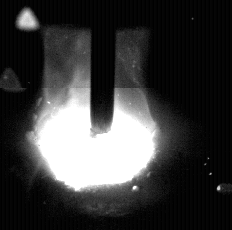arame: (91, 0, 115, 139)
poca: (34, 0, 156, 230)
